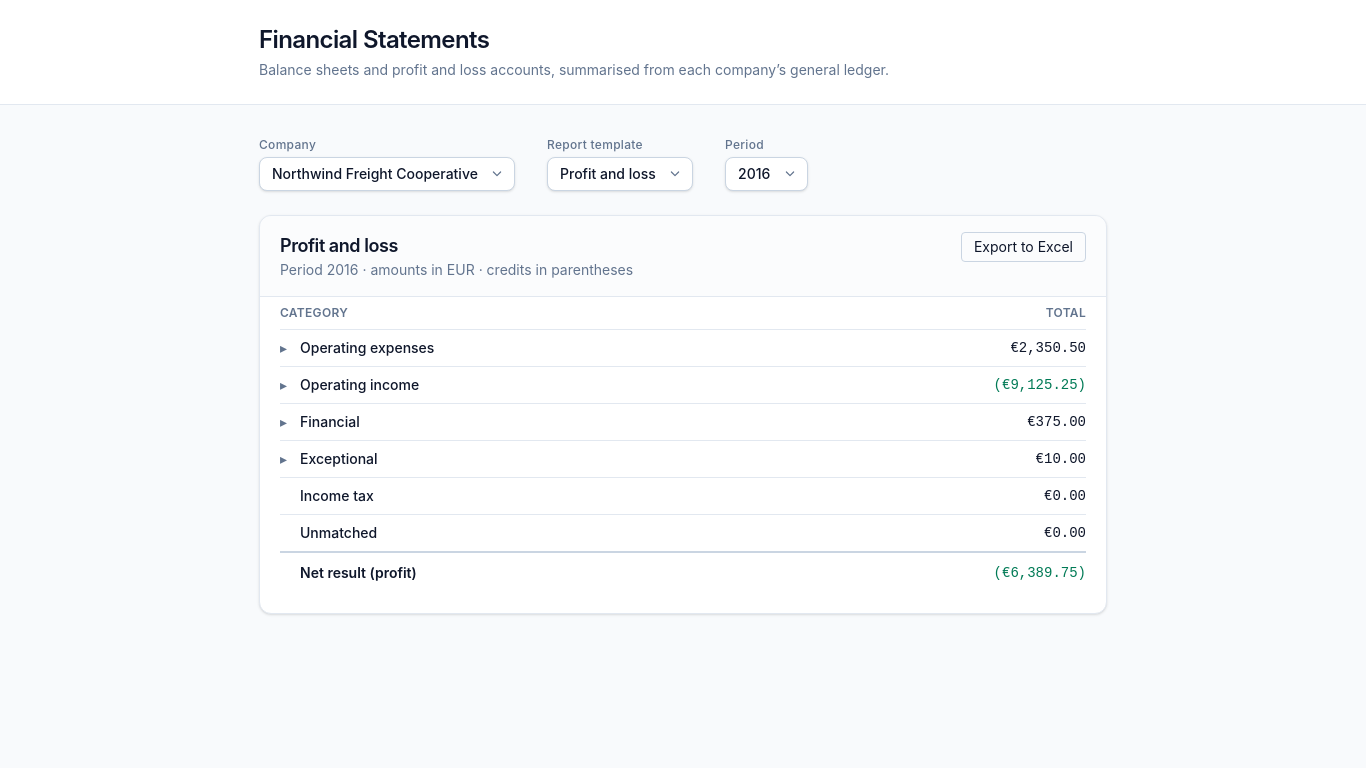
Test case: a Category expands to show its children, and collapses again
The width and height of the screenshot is (1366, 768).
Click the button "Operating expenses".
click(357, 348)  # box [280,338,434,358]
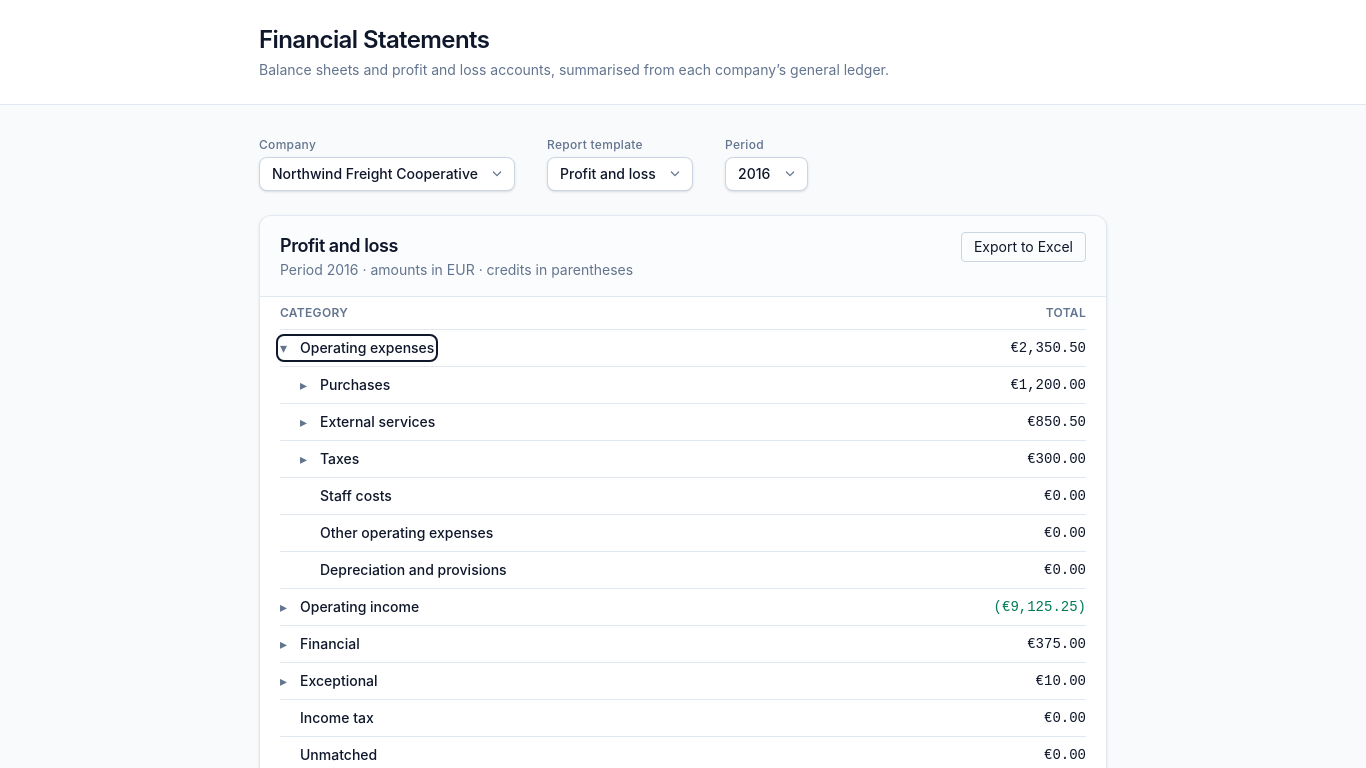
expect the button "Operating expenses" is expanded: met, box [280,338,434,358]
expect the row "Purchases €1,200.00" is shown: met, box [280,366,1086,404]
expect the row "External services €850.50" is shown: met, box [280,404,1086,440]
Click the button "External services".
click(368, 422)  # box [300,412,435,432]
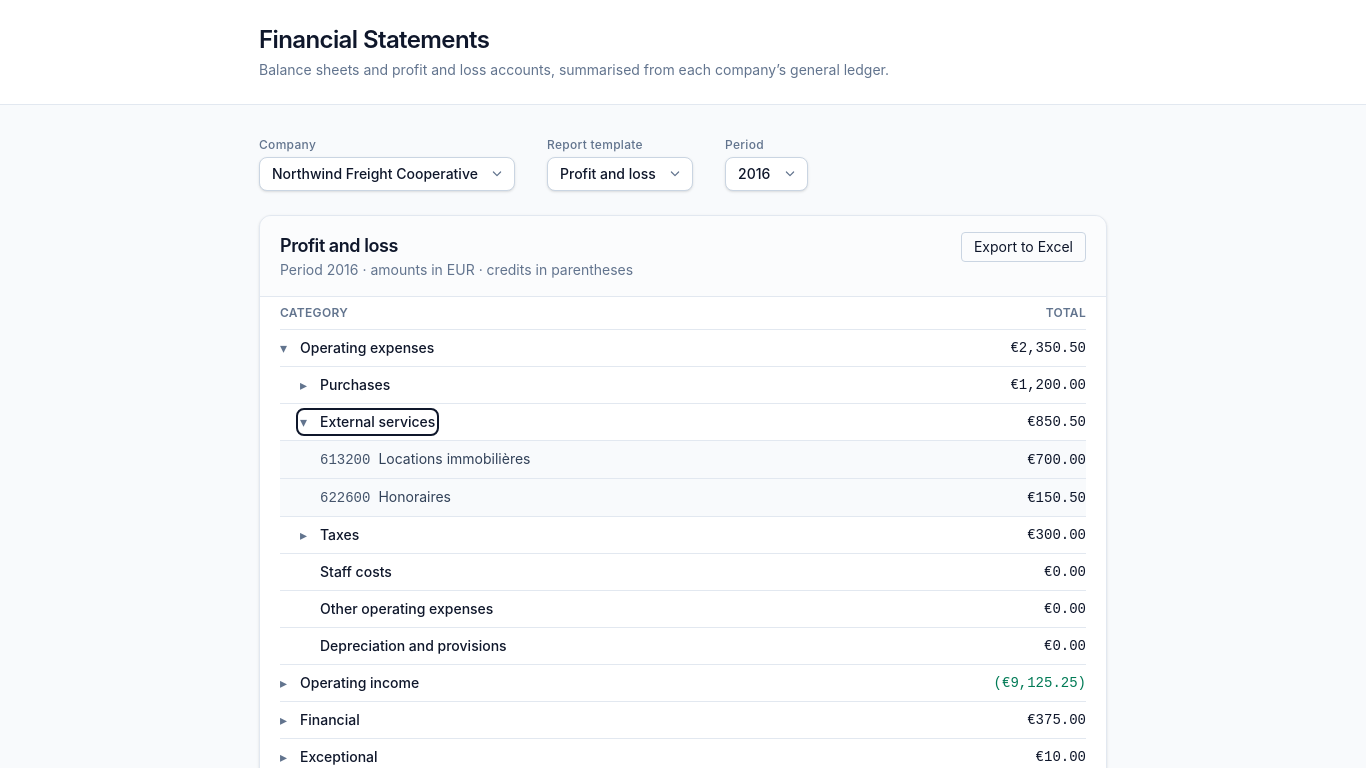
expect the row "613200Locations immobilières €700.00" is shown: met, box [280,440,1086,478]
Click the button "Operating expenses".
click(357, 348)  # box [280,338,434,358]
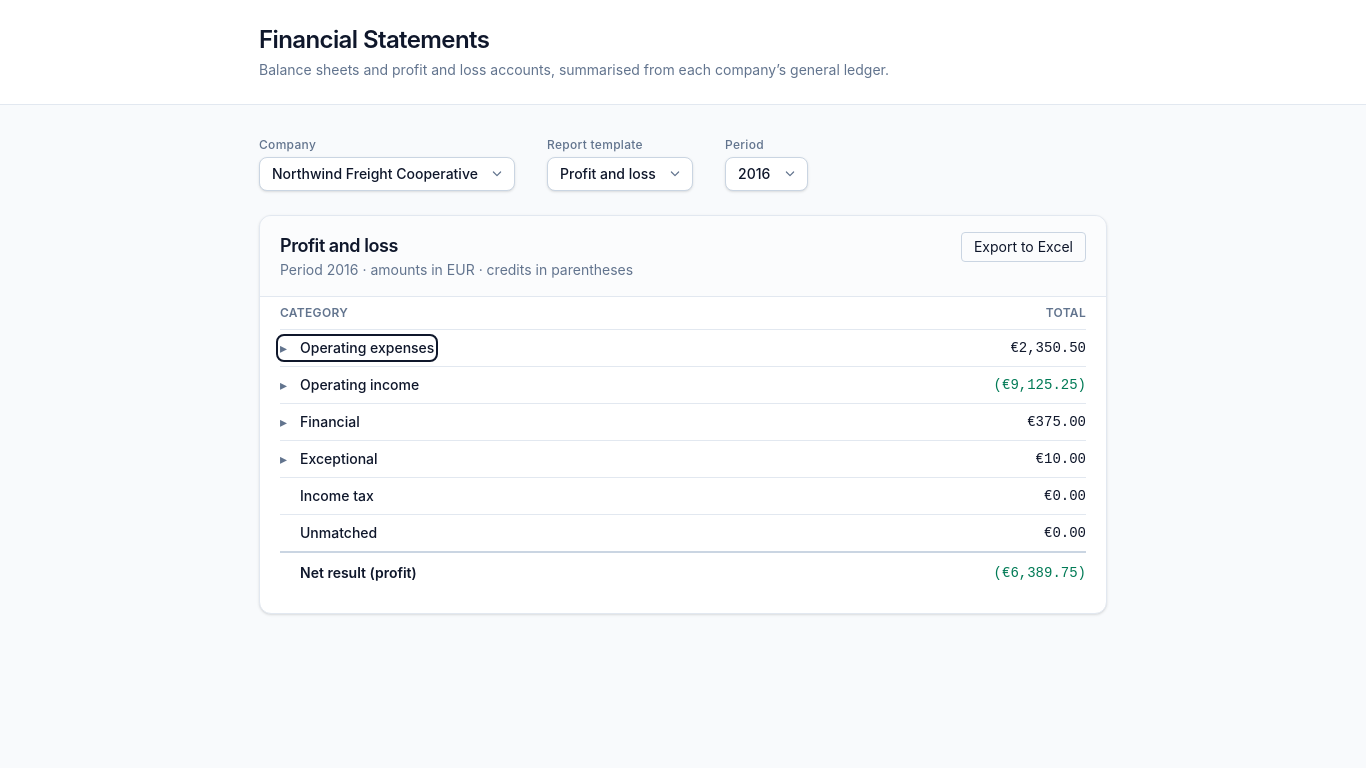
expect the button "Operating expenses" is collapsed: met, box [280,338,434,358]
expect the button "Purchases" is gone: met
expect the text "613200" is gone: met
